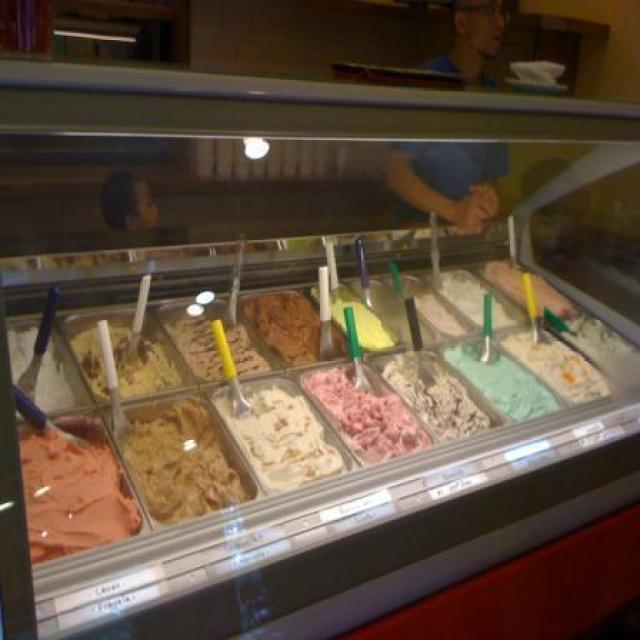Ice Cream: (120, 391, 256, 536), (35, 407, 142, 572), (209, 378, 351, 501), (298, 362, 435, 468), (438, 340, 562, 420), (380, 354, 494, 440), (498, 324, 618, 404), (73, 316, 188, 396), (246, 286, 351, 364), (168, 302, 275, 375), (8, 326, 82, 418), (314, 281, 400, 358), (558, 313, 640, 393), (436, 264, 516, 333), (483, 262, 580, 318), (407, 285, 473, 338)
